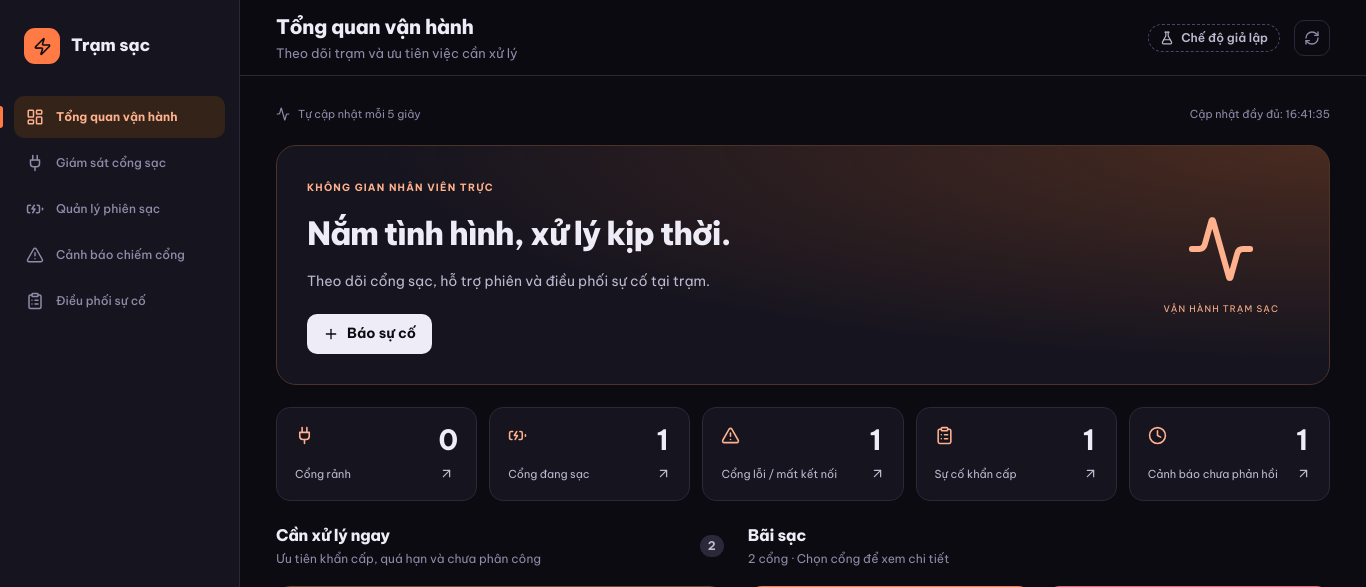
Test: does not overwrite saved feedback with an older pending poll
Click the button "Cảnh báo chiếm cổng".
click(120, 255)  # box [14,234,225,276]
Wait 5000 ms
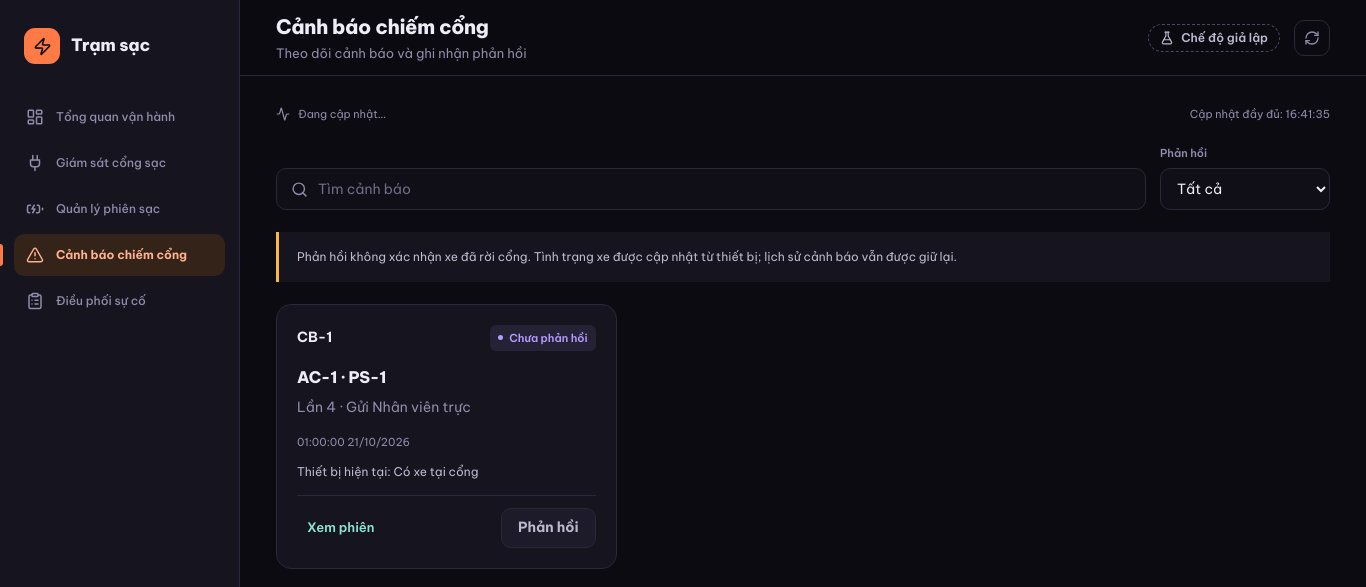
Click the button with aria-label "Phản hồi CB-1".
click(548, 528)  # box [501,508,596,548]
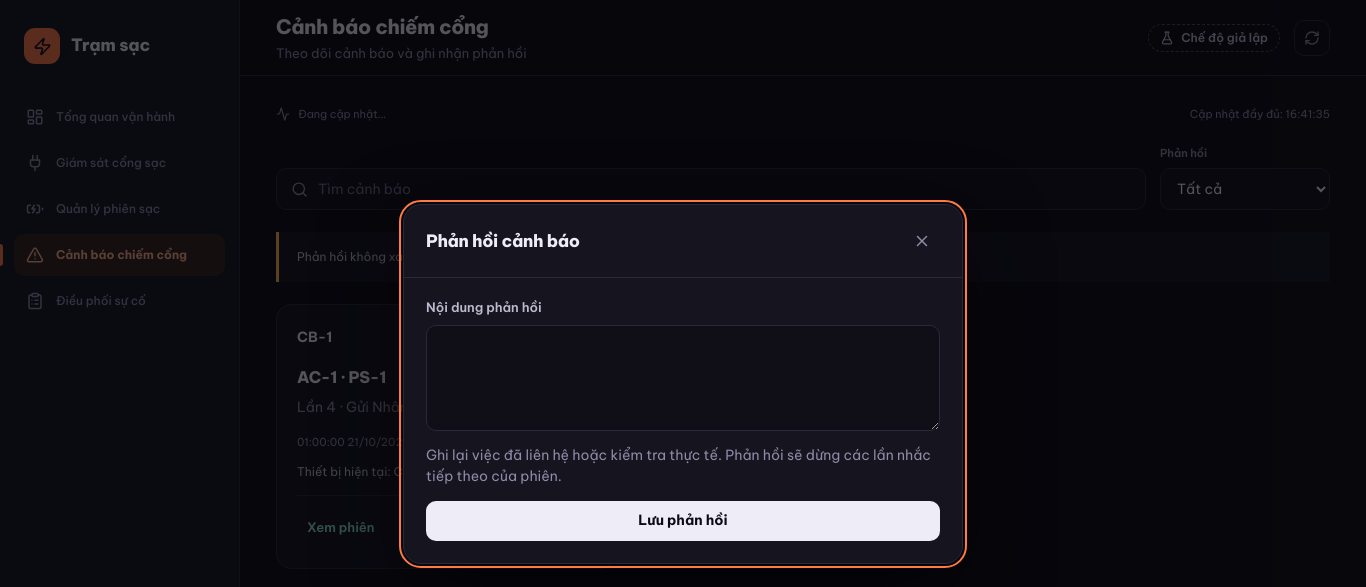
Type "Đã liên hệ chủ xe" into the text box labelled "Nội dung phản hồi".
click(683, 378); type("Đã liên hệ chủ xe")  # box [426,325,940,431]
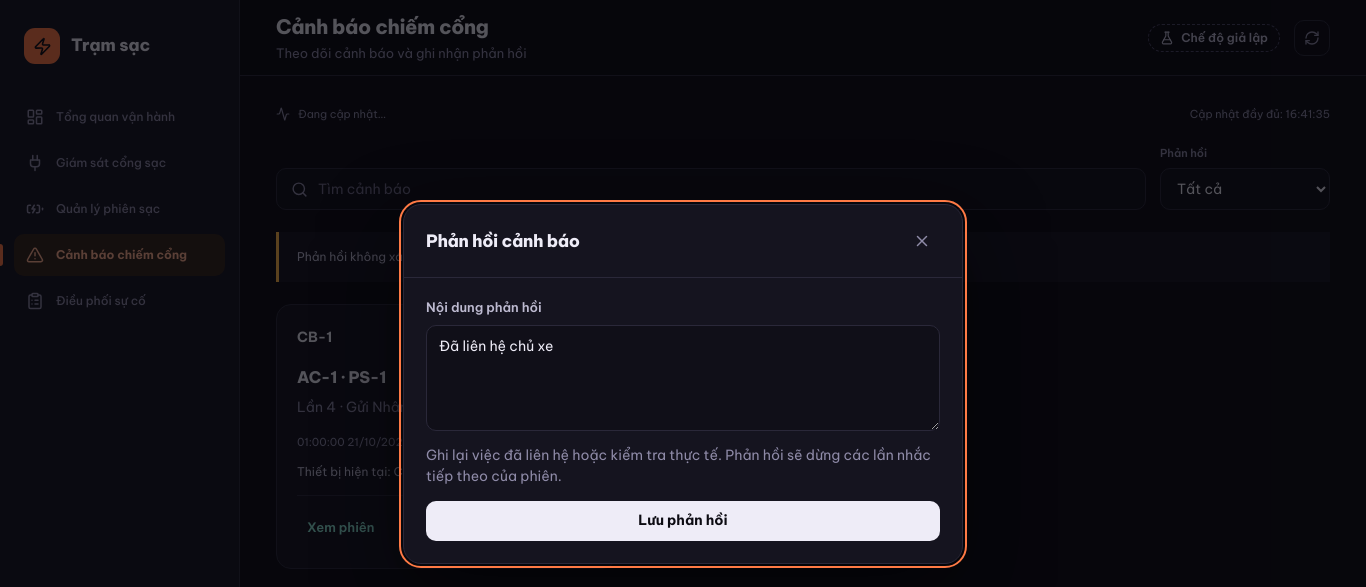
Click the button "Lưu phản hồi".
click(683, 521)  # box [426,501,940,541]
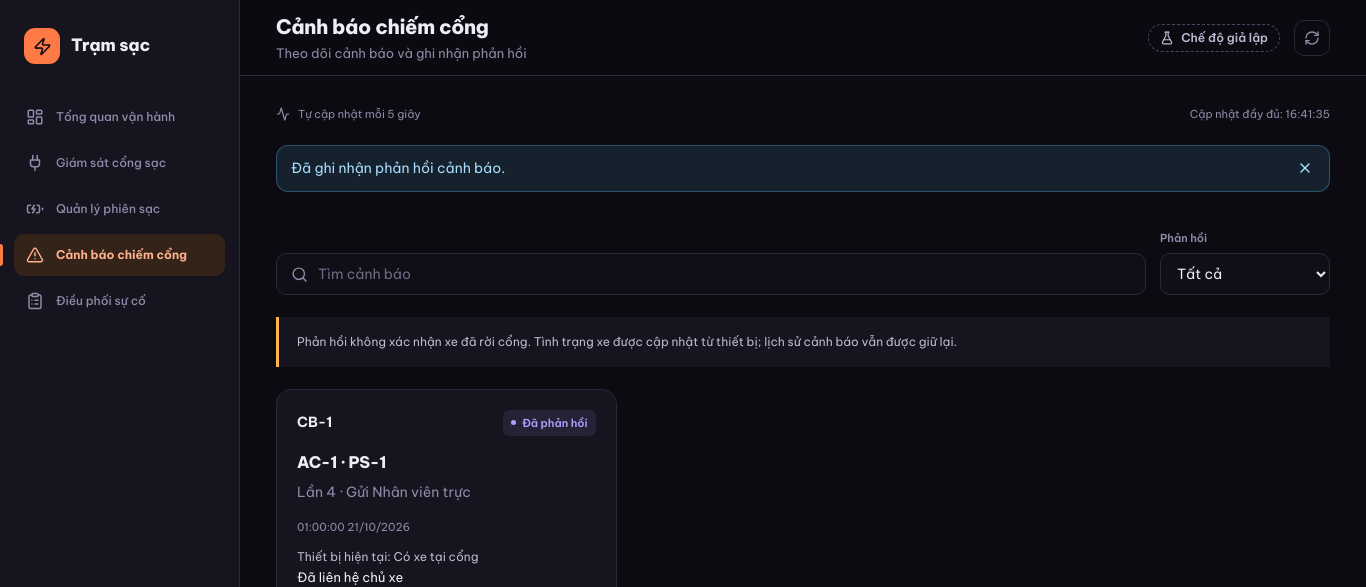
Now the text "Đã liên hệ chủ xe" is shown, box [297,569,403,585]
